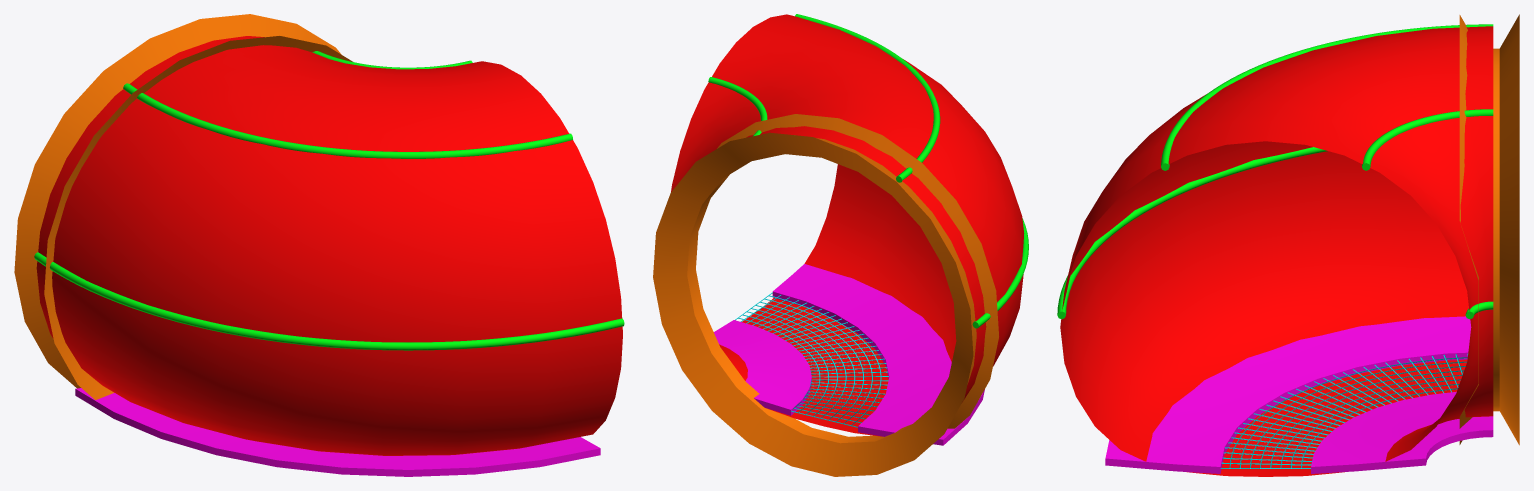
File: 1_4_Curva.fbx
3 views of the same model, side by side, from view 1: azimuth 30°, elevation 25°; view 2: azimuth 150°, elevation 25°; view 3: azimuth 270°, elevation 25° (orthographic). The views are drawn at different scales.
Visible parts, largest first — view 1: Tube001; view 2: Tube001; view 3: Tube001.
Part boxes in pixels (<box>): Tube001: <box>14,14,624,476</box>; Tube001: <box>653,14,1028,476</box>; Tube001: <box>1057,14,1519,476</box>.
Size of the model in its own units: 292 by 284 by 304.
